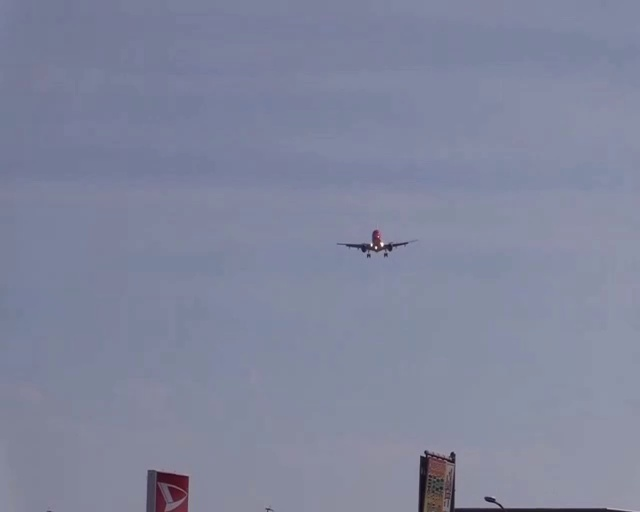AIRPLANE: (337, 229, 419, 258)
